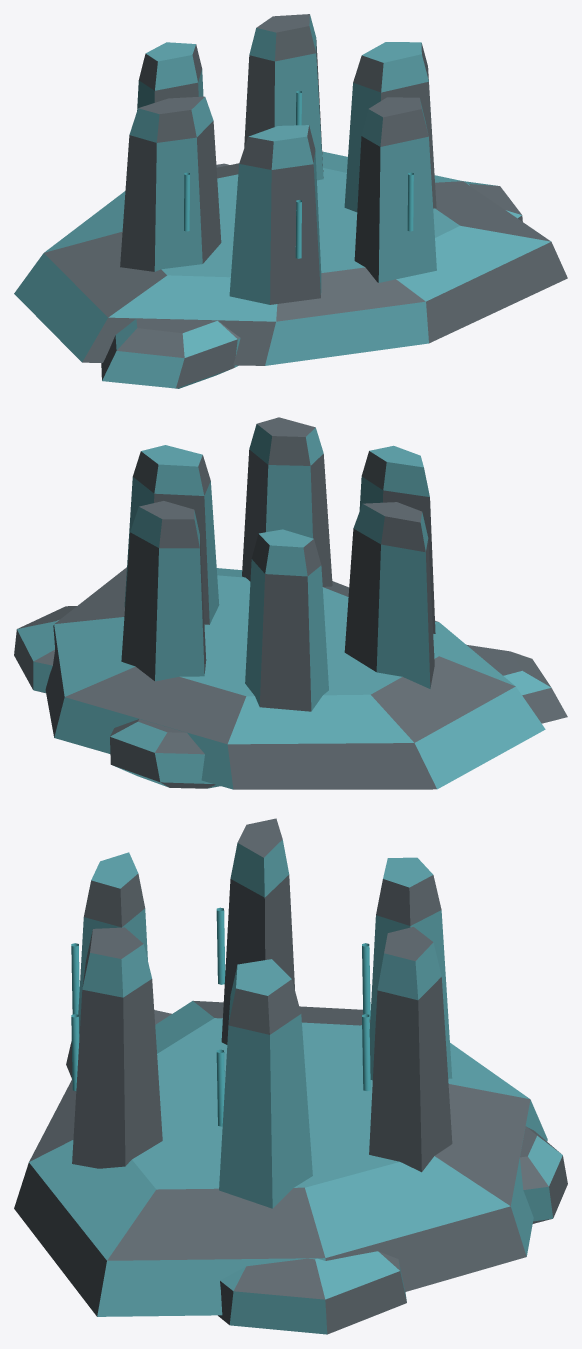
File: BH_ORE_O05_Rocha_das_Runas_V01.glb
3 views of the same model, one above another, from view 1: azimuth 30°, elevation 25°; view 2: azimuth 150°, elevation 25°; view 3: azimuth 270°, elevation 25° (orthographic). The views are drawn at different scales.
Visible parts, largest first — view 1: Bedrock | primary.001, Rune slab 4.001, Rune slab 5.001, Rune slab 6.001, Rune slab 2.001, Bedrock | shoulder 1.001, Rune slab 1.001, Rune slab 3.001, Bedrock | shoulder 2.001; view 2: Bedrock | primary.001, Rune slab 4.001, Rune slab 3.001, Rune slab 2.001, Rune slab 6.001, Rune slab 1.001, Bedrock | shoulder 3.001, Rune slab 5.001, Bedrock | shoulder 1.001, Bedrock | shoulder 2.001; view 3: Bedrock | primary.001, Rune slab 1.001, Rune slab 6.001, Rune slab 2.001, Bedrock | shoulder 2.001, Rune slab 4.001, Rune slab 3.001, Rune slab 5.001, Bedrock | shoulder 3.001.
Part boxes in pixels (x1,y1,x2,y2): Bedrock | primary.001: [14, 151, 567, 365]; Rune slab 4.001: [120, 96, 221, 271]; Rune slab 5.001: [229, 125, 321, 304]; Rune slab 6.001: [354, 97, 436, 282]; Rune slab 2.001: [244, 14, 323, 180]; Bedrock | shoulder 1.001: [101, 318, 240, 388]; Rune slab 1.001: [344, 42, 436, 212]; Rune slab 3.001: [137, 42, 203, 110]; Bedrock | shoulder 2.001: [463, 181, 522, 221]; Bedrock | primary.001: [45, 567, 545, 789]; Rune slab 4.001: [344, 502, 434, 688]; Rune slab 3.001: [245, 529, 328, 711]; Rune slab 2.001: [121, 501, 206, 681]; Rune slab 6.001: [242, 417, 332, 586]; Rune slab 1.001: [124, 445, 219, 624]; Bedrock | shoulder 3.001: [110, 719, 220, 788]; Rune slab 5.001: [359, 445, 435, 633]; Bedrock | shoulder 1.001: [466, 644, 567, 723]; Bedrock | shoulder 2.001: [14, 606, 76, 693]; Bedrock | primary.001: [14, 1000, 547, 1316]; Rune slab 1.001: [219, 959, 312, 1208]; Rune slab 6.001: [72, 927, 162, 1168]; Rune slab 2.001: [369, 927, 452, 1172]; Bedrock | shoulder 2.001: [218, 1251, 406, 1334]; Rune slab 4.001: [221, 818, 294, 1044]; Rune slab 3.001: [369, 857, 452, 1080]; Rune slab 5.001: [74, 852, 147, 1091]; Bedrock | shoulder 3.001: [520, 1126, 567, 1223].
Bounding box in the file's own units: 2.63 × 1.2 × 2.05.
